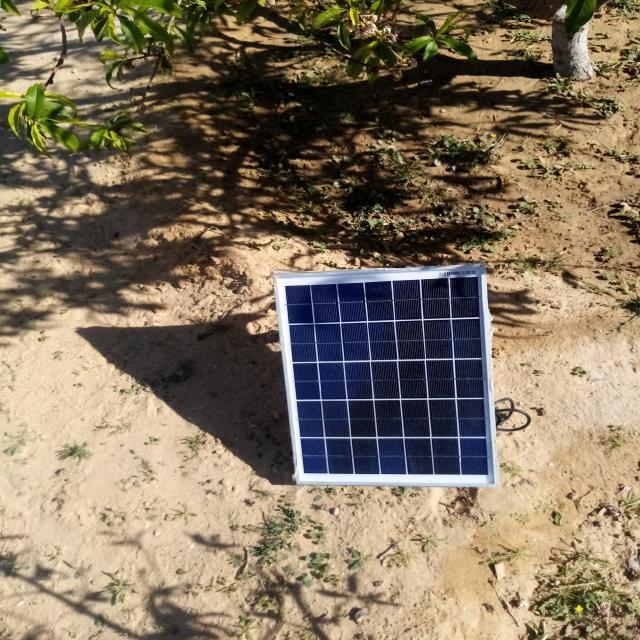no faulty: (274, 264, 499, 486)
